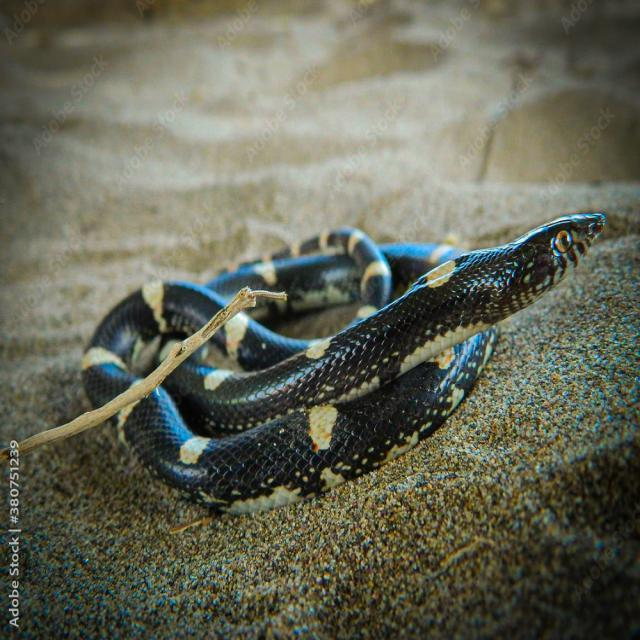Snake: (57, 166, 610, 530)
